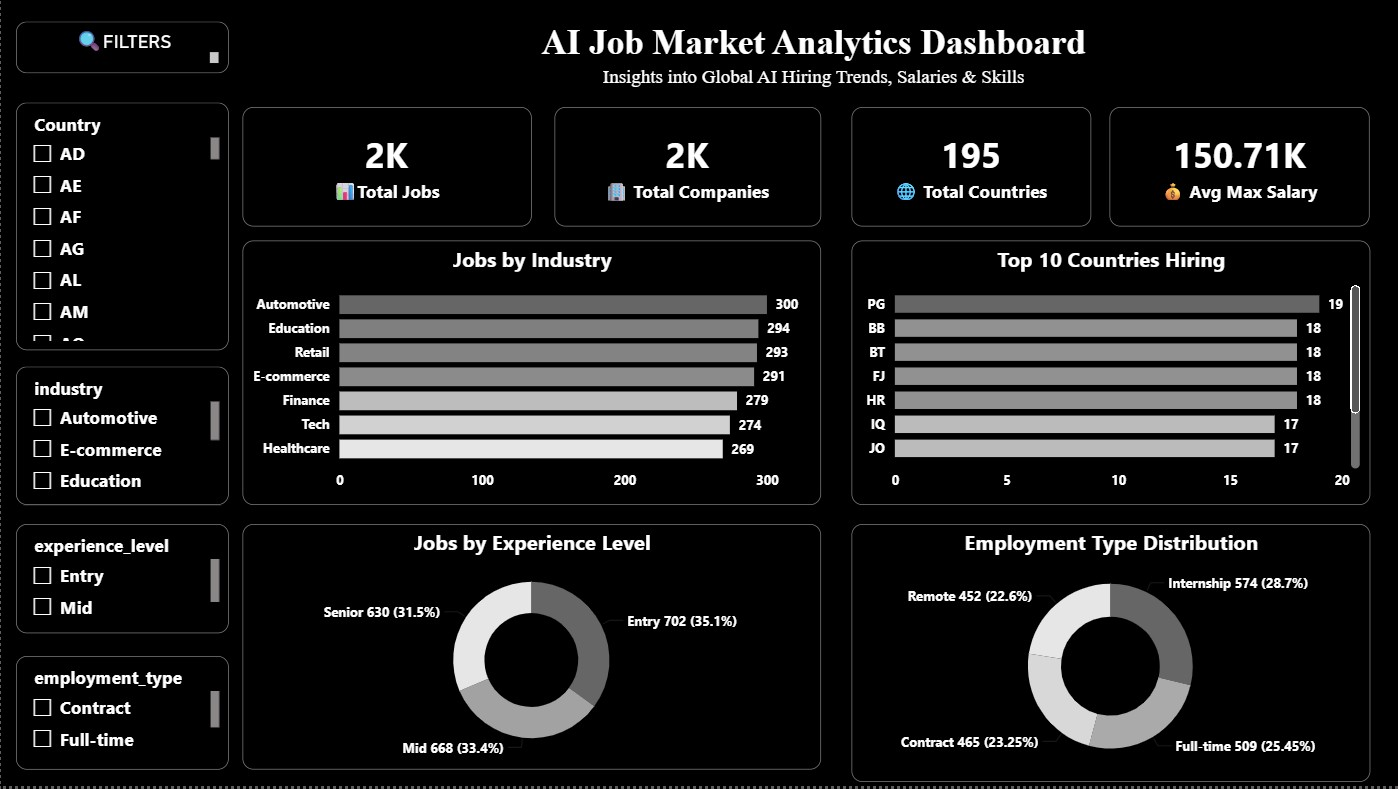

The dashboard page shown, as its layout file describes it:
{"tool":"powerbi","page":{"name":"Executive Dashboard","canvas":[1280,720],"ordinal":0},"visuals":[{"type":"cardVisual","fields":{"Data":["ai_job_market.Total Jobs"]},"box":[221.1,98.3,264.6,109.6],"z":0},{"type":"cardVisual","fields":{"Data":["ai_job_market.Total Companies"]},"box":[506.5,98.3,243.8,109.6],"z":1000},{"type":"cardVisual","fields":{"Data":["ai_job_market.Total Countries"]},"box":[778.6,98.3,219.2,109.6],"z":2000},{"type":"cardVisual","fields":{"Data":["ai_job_market.Average Max Salary"]},"box":[1014.8,98.3,238.1,109.6],"z":3000},{"type":"clusteredBarChart","title":"Jobs by Industry","fields":{"Category":["ai_job_market.industry"],"Y":["CountNonNull(ai_job_market.job_id)"]},"box":[221.1,221.1,529.1,241.9],"z":4000},{"type":"clusteredBarChart","title":"Top 10 Countries Hiring","fields":{"Category":["ai_job_market.Country"],"Y":["CountNonNull(ai_job_market.job_id)"]},"box":[778.6,221.1,474.3,241.9],"z":5000},{"type":"donutChart","title":"Jobs by Experience Level","fields":{"Category":["ai_job_market.experience_level"],"Y":["CountNonNull(ai_job_market.job_id)"]},"box":[221.1,480,529.1,224.9],"z":6000},{"type":"donutChart","title":"Employment Type Distribution","fields":{"Category":["ai_job_market.employment_type"],"Y":["CountNonNull(ai_job_market.job_id)"]},"box":[778.6,480,474.3,236.2],"z":7000},{"type":"slicer","fields":{"Values":["ai_job_market.Country"]},"box":[13.2,94.5,194.6,226.8],"z":8000},{"type":"slicer","fields":{"Values":["ai_job_market.industry"]},"box":[13.2,336.4,194.6,126.6],"z":9000},{"type":"slicer","fields":{"Values":["ai_job_market.experience_level"]},"box":[13.2,480,194.6,100.2],"z":10000},{"type":"slicer","fields":{"Values":["ai_job_market.employment_type"]},"box":[13.2,600.9,194.6,103.9],"z":11000},{"type":"textbox","title":"AI Job Market Analytics Dashboard","box":[221.1,20.8,1045,60.5],"z":12000},{"type":"textbox","title":"🔍FILTERS","box":[13.2,20.8,194.6,47.2],"z":13000}]}

Visuals, with their boxes in screenshot pixels (x1, y1, x2, y2), scaled from the page's 1280x720 canvas onto the 1398x789 screenshot:
cardVisual - ai_job_market.Total Jobs: (241,108,530,228)
cardVisual - ai_job_market.Total Companies: (553,108,819,228)
cardVisual - ai_job_market.Total Countries: (850,108,1090,228)
cardVisual - ai_job_market.Average Max Salary: (1108,108,1368,228)
"Jobs by Industry" clusteredBarChart: (241,242,819,507)
"Top 10 Countries Hiring" clusteredBarChart: (850,242,1368,507)
"Jobs by Experience Level" donutChart: (241,526,819,772)
"Employment Type Distribution" donutChart: (850,526,1368,785)
slicer - ai_job_market.Country: (14,104,227,352)
slicer - ai_job_market.industry: (14,369,227,507)
slicer - ai_job_market.experience_level: (14,526,227,636)
slicer - ai_job_market.employment_type: (14,658,227,772)
"AI Job Market Analytics Dashboard" textbox: (241,23,1383,89)
"🔍FILTERS" textbox: (14,23,227,75)
